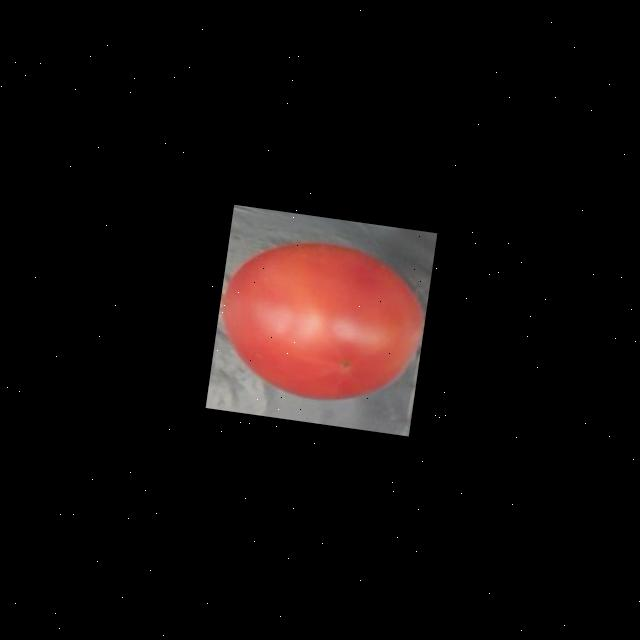tomato: (206, 226, 432, 418)
